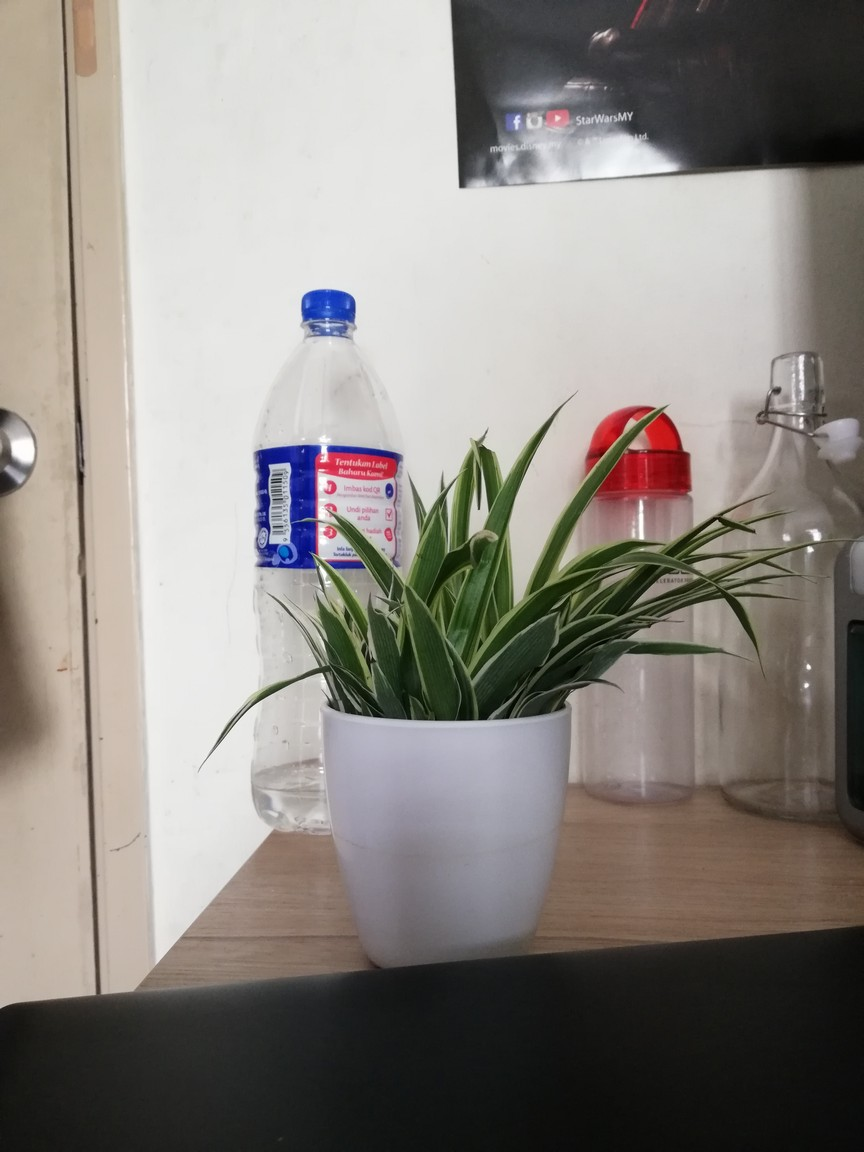daun: (198, 665, 316, 773), (568, 401, 673, 509), (505, 385, 581, 488), (497, 605, 566, 663), (260, 588, 313, 653), (726, 598, 768, 678), (401, 581, 435, 673), (634, 640, 754, 660), (429, 466, 473, 518), (309, 550, 352, 596), (285, 515, 359, 539), (697, 488, 780, 509), (323, 504, 365, 540), (406, 469, 427, 527), (700, 591, 808, 601), (407, 687, 429, 733), (744, 506, 801, 523), (582, 676, 627, 695), (437, 465, 449, 531), (372, 591, 398, 610), (476, 421, 493, 444), (320, 687, 335, 710)
